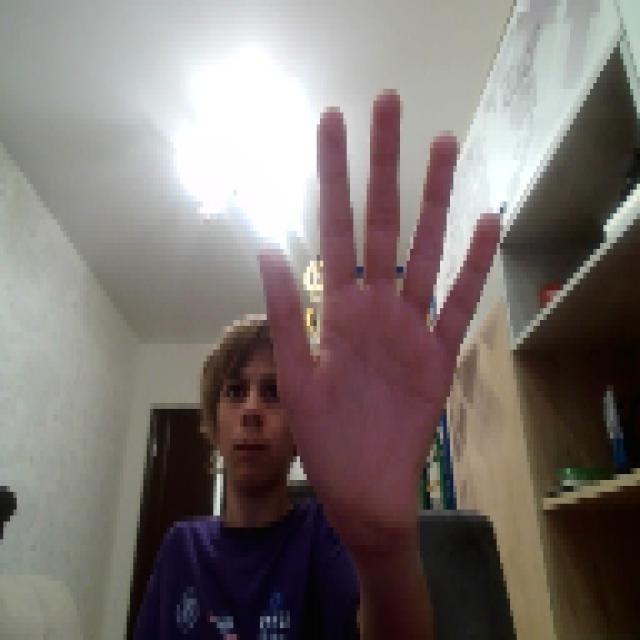hand: (257, 83, 500, 533)
